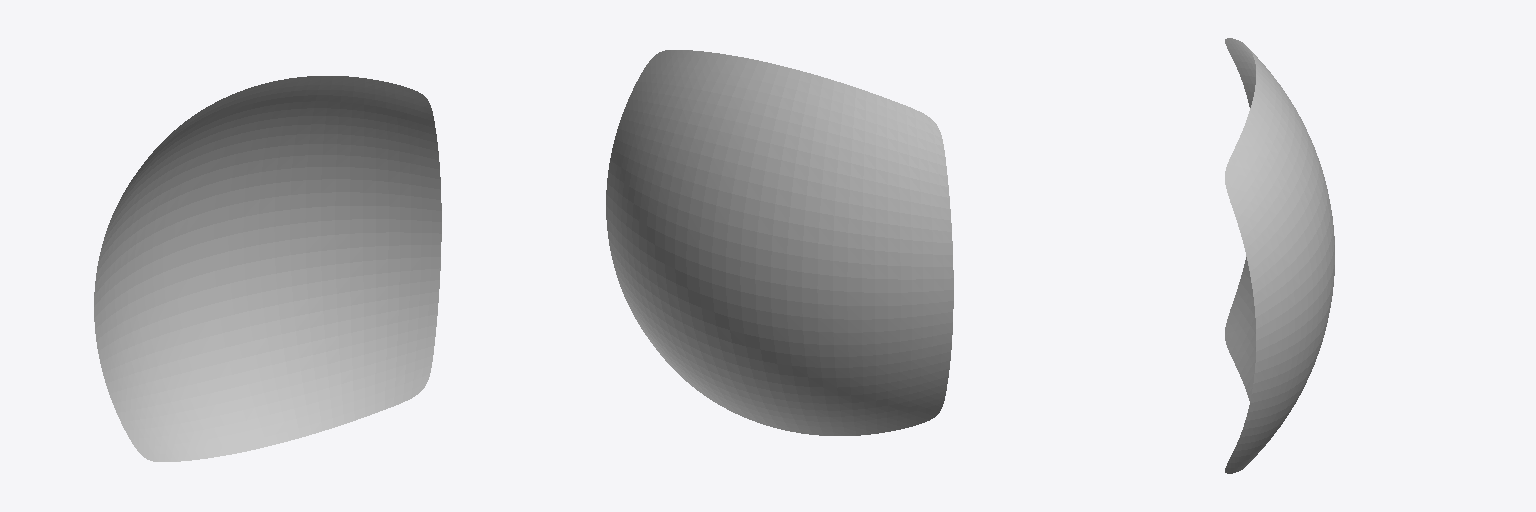
Rendered from hud_visor.obj.
3 renders of one model, left to right at view 1: azimuth 30°, elevation 25°; view 2: azimuth 150°, elevation 25°; view 3: azimuth 270°, elevation 25°, orthographic.
Visible parts, largest first — view 1: Cube; view 2: Cube; view 3: Cube.
Part boxes in pixels (bbox=[...]): Cube: bbox=[94, 76, 441, 461]; Cube: bbox=[606, 50, 953, 435]; Cube: bbox=[1225, 38, 1334, 473].
Size of the model in its own units: 1.81 by 1.81 by 0.4998.